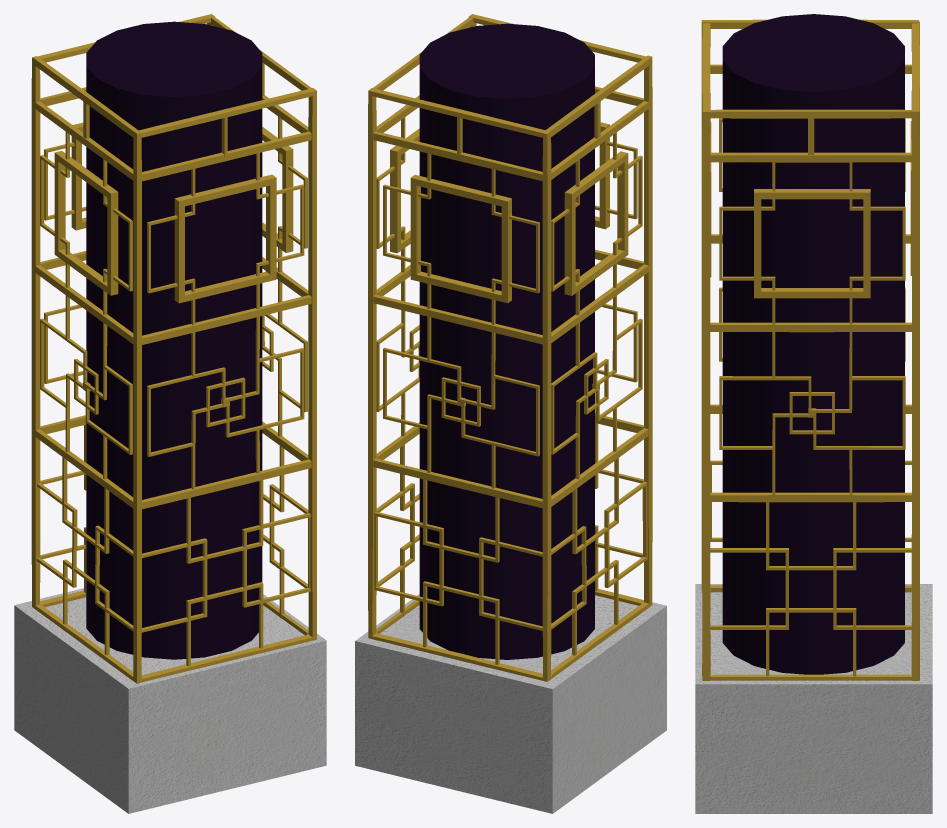
The model's file is column_dark.FBX.
3 views of the same model, side by side, from view 1: azimuth 30°, elevation 25°; view 2: azimuth 150°, elevation 25°; view 3: azimuth 270°, elevation 25° (orthographic). The views are drawn at different scales.
Parts seen in each view (by area): view 1: column, grate, base; view 2: column, grate, base; view 3: column, grate, base.
Boxes of the visible parts, left/top/right/bottom form: column: left=86, top=21, right=262, bottom=659; grate: left=31, top=14, right=316, bottom=683; base: left=14, top=588, right=326, bottom=813; column: left=419, top=23, right=594, bottom=659; grate: left=368, top=14, right=652, bottom=681; base: left=355, top=594, right=666, bottom=813; column: left=722, top=14, right=904, bottom=674; grate: left=701, top=19, right=919, bottom=680; base: left=695, top=584, right=932, bottom=813.
Bounding box in the file's own units: 19.38 × 64.24 × 19.38.
